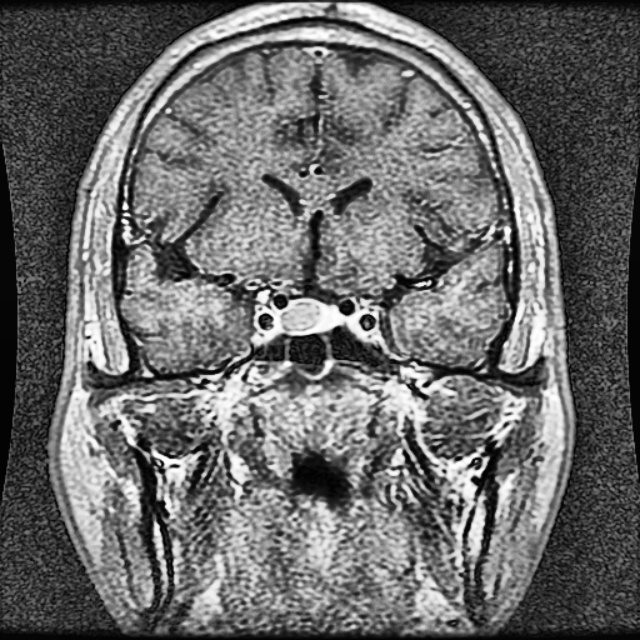Pituitary: (279, 298, 339, 333)
